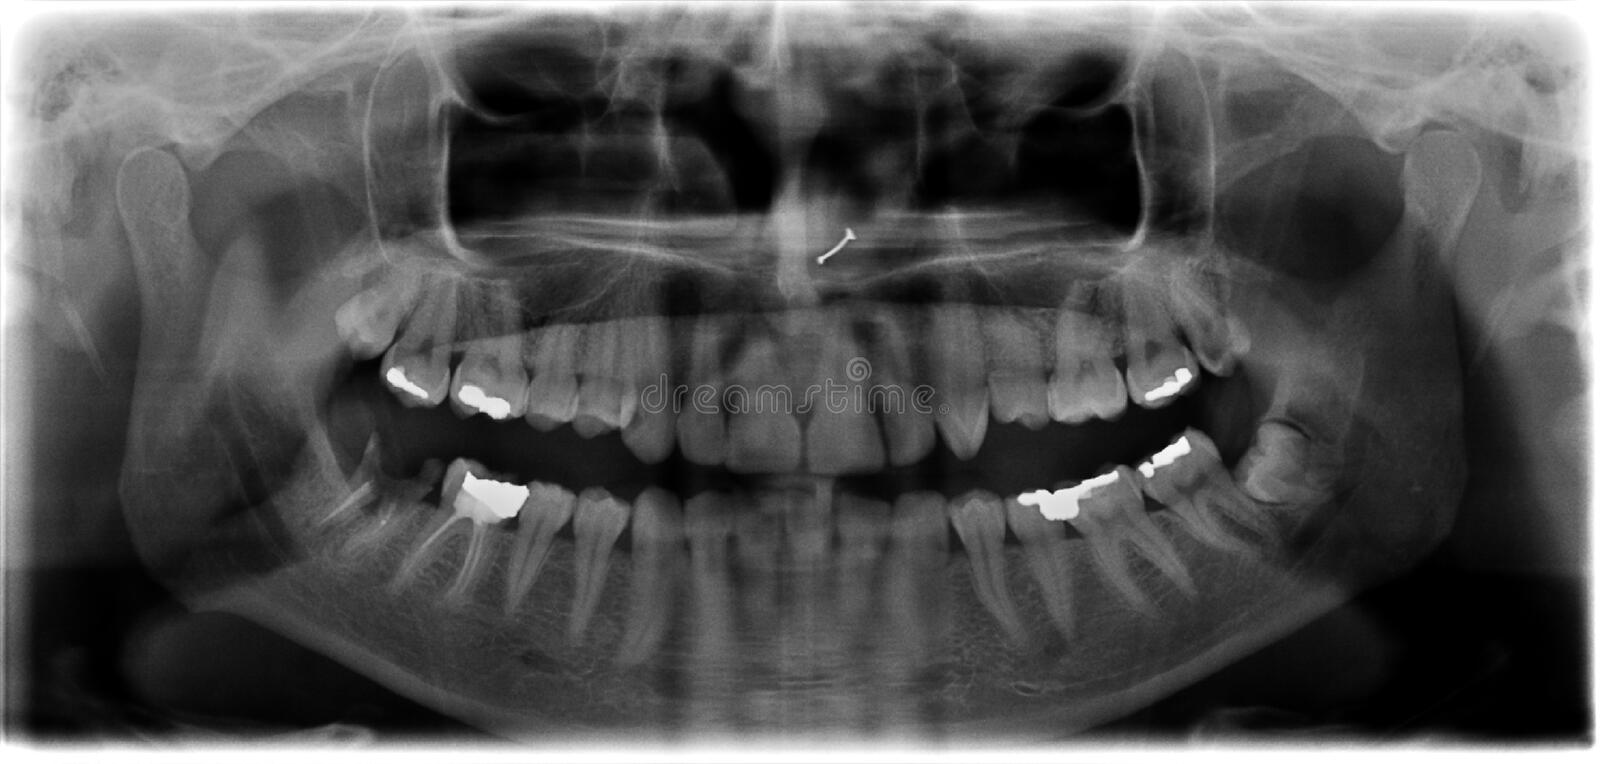canine: (923, 295, 995, 471), (895, 492, 969, 651), (621, 293, 686, 473), (633, 483, 692, 655)
incisor: (794, 301, 890, 486), (731, 322, 810, 472), (671, 308, 742, 466), (873, 338, 943, 472), (786, 473, 836, 638), (690, 483, 741, 640), (731, 494, 786, 624), (840, 497, 882, 655)
molar: (394, 430, 544, 615), (1132, 422, 1297, 578), (315, 409, 459, 584), (1060, 453, 1196, 617), (1034, 265, 1140, 436), (383, 255, 473, 417), (330, 255, 444, 373), (1169, 248, 1260, 380), (501, 468, 576, 627), (451, 292, 541, 423), (1118, 283, 1208, 411)
premolar: (1000, 475, 1091, 649), (954, 479, 1037, 655), (986, 281, 1061, 448), (567, 308, 641, 445), (576, 470, 635, 640), (526, 316, 580, 447)
